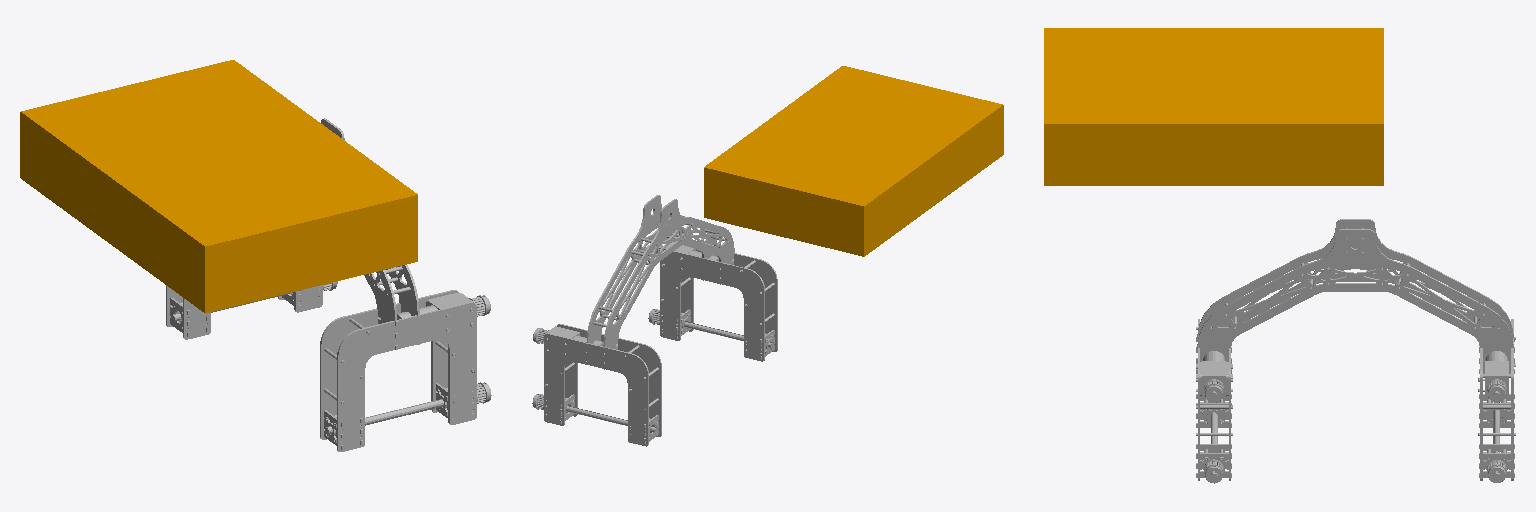
robot.urdf — bluetounge:
<robot
  name="bluetounge">
  <link name="base_link">
        <visual>
          <geometry>
            <box size=" .4   .6 .12"/>
          </geometry>
        </visual>
    </link>
  <joint name="base_to_left_bogey" type="fixed">
      <parent link="base_link"/>
      <child link="left_bogey_top"/>
	<!-- .2 from center on x -->
      <origin xyz=".3 0 0.027" rpy="0 3.14159265 4.71238898"/>
      <axis xyz="0 0 1" />
  </joint>
  <link
    name="left_bogey_top">
    <inertial>
      <origin
        xyz="-0.094382 0.035191 0.10396"
        rpy="0 0 0" />
      <mass
        value="1.3772" />
      <inertia
        ixx="0.013062"
        ixy="0.00030538"
        ixz="-0.018196"
        iyy="0.10669"
        iyz="-0.00024198"
        izz="0.096319" />
    </inertial>
    <visual>
      <origin
        xyz="0 0 0"
        rpy="0 0 0" />
      <geometry>
        <mesh
          filename="package://owr_bluetounge_tf/meshes/left_bogey_top.STL" />
      </geometry>
      <material
        name="">
        <color
          rgba="0.86667 0.9098 1 1" />
      </material>
    </visual>
    <collision>
      <origin
        xyz="0 0 0"
        rpy="0 0 0" />
      <geometry>
        <mesh
          filename="package://owr_bluetounge_tf/meshes/left_bogey_top.STL" />
      </geometry>
    </collision>
  </link>
  <link
    name="left_front_wheel_hub">
    <inertial>
      <origin
        xyz="-0.11579 0.17312 -2.3336E-05"
        rpy="0 0 0" />
      <mass
        value="2.6838" />
      <inertia
        ixx="0.015763"
        ixy="-0.0036021"
        ixz="2.4611E-06"
        iyy="0.01238"
        iyz="4.0061E-07"
        izz="0.026734" />
    </inertial>
    <visual>
      <origin
        xyz="0 0 0"
        rpy="0 0 0" />
      <geometry>
        <mesh
          filename="package://owr_bluetounge_tf/meshes/left_front_wheel_hub.STL" />
      </geometry>
      <material
        name="">
        <color
          rgba="0.86667 0.9098 1 1" />
      </material>
    </visual>
    <collision>
      <origin
        xyz="0 0 0"
        rpy="0 0 0" />
      <geometry>
        <mesh
          filename="package://owr_bluetounge_tf/meshes/left_front_wheel_hub.STL" />
      </geometry>
    </collision>
  </link>
  <joint
    name="left_front_bogey_hub"
    type="fixed">
    <origin
      xyz="-0.50057 -0.090687 0.51198"
      rpy="0 -1.5706 0" />
    <parent
      link="left_bogey_top" />
    <child
      link="left_front_wheel_hub" />
    <axis
      xyz="0 0 0" />
  </joint>
  <link
    name="left_back_bogey">
    <inertial>
      <origin
        xyz="-0.078156 0.24943 -0.11724"
        rpy="0 0 0" />
      <mass
        value="6.2866" />
      <inertia
        ixx="0.4103"
        ixy="0.0002581"
        ixz="0.0022294"
        iyy="0.079125"
        iyz="9.8891E-05"
        izz="0.39691" />
    </inertial>
    <visual>
      <origin
        xyz="0 0 0"
        rpy="0 0 0" />
      <geometry>
        <mesh
          filename="package://owr_bluetounge_tf/meshes/left_back_bogey.STL" />
      </geometry>
      <material
        name="">
        <color
          rgba="0.75294 0.75294 0.75294 1" />
      </material>
    </visual>
    <collision>
      <origin
        xyz="0 0 0"
        rpy="0 0 0" />
      <geometry>
        <mesh
          filename="package://owr_bluetounge_tf/meshes/left_back_bogey.STL" />
      </geometry>
    </collision>
  </link>
  <joint
    name="left_bogey_axel"
    type="fixed">
    <origin
      xyz="-0.00031073 -0.0027889 0.49186"
      rpy="5.2352E-15 0 -1.5708" />
    <parent
      link="left_bogey_top" />
    <child
      link="left_back_bogey" />
    <axis
      xyz="0 0 0" />
  </joint>
<link
    name="WheelLF">
    <inertial>
      <origin
        xyz="-0.0640000000000001 -2.98155597433514E-18 0"
        rpy="0 0 0" />
      <mass
        value="1.86318344508723" />
      <inertia
        ixx="0.0179963942930543"
        ixy="-2.15672374578627E-18"
        ixz="1.63515966176784E-34"
        iyy="0.0131272204160217"
        iyz="-1.94143329058776E-34"
        izz="0.0131272204160217" />
    </inertial>
    <visual>
      <origin
        xyz="0 0 0"
        rpy="0 0 0" />
      <geometry>
        <mesh
          filename="package://owr_bluetounge_tf/meshes/Wheel.STL" />
      </geometry>
      <material
        name="">
        <color
          rgba="0.294117647058824 0.294117647058824 0.294117647058824 1" />
      </material>
    </visual>
    <collision>
      <origin
        xyz="0 0 0"
        rpy="0 0 0" />
      <geometry>
        <mesh
          filename="package://owr_bluetounge_tf/meshes/Wheel.STL" />
      </geometry>
    </collision>
  </link>
  <joint
    name="AxleLF"
    type="fixed">
    <!-- 0.0254710786476053 -0.0201166854458847  0.000315728425903225 -->
    <origin
      xyz="-0.02 .16 0.000315728425903225"
      rpy="1.5707963267949 0 1.57079633" />
    <parent
      link="left_front_wheel_hub" />
    <child
      link="WheelLF" />
    <axis
      xyz="0 0 0" />
  </joint>
  <link
    name="WheelLM">
    <inertial>
      <origin
        xyz="-0.0640000000000001 -2.98155597433514E-18 0"
        rpy="0 0 0" />
      <mass
        value="1.86318344508723" />
      <inertia
        ixx="0.0179963942930543"
        ixy="-2.15672374578627E-18"
        ixz="1.63515966176784E-34"
        iyy="0.0131272204160217"
        iyz="-1.94143329058776E-34"
        izz="0.0131272204160217" />
    </inertial>
    <visual>
      <origin
        xyz="0 0 0"
        rpy="0 0 0" />
      <geometry>
        <mesh
          filename="package://owr_bluetounge_tf/meshes/Wheel.STL" />
      </geometry>
      <material
        name="">
        <color
          rgba="0.294117647058824 0.294117647058824 0.294117647058824 1" />
      </material>
    </visual>
    <collision>
      <origin
        xyz="0 0 0"
        rpy="0 0 0" />
      <geometry>
        <mesh
          filename="package://owr_bluetounge_tf/meshes/Wheel.STL" />
      </geometry>
    </collision>
  </link>
  <joint
    name="AxleLM"
    type="fixed">
    <!-- 0.0254710786476053 -0.0201166854458847  0.000315728425903225 -->
    <origin
      xyz="0 0.02 0.02"
      rpy="1.5707963267949 0 0" />
    <parent
      link="left_back_bogey" />
    <child
      link="WheelLM" />
    <axis
      xyz="1 0 0" />
  </joint>
  <link
    name="WheelLB">
    <inertial>
      <origin
        xyz="-0.0640000000000001 -2.98155597433514E-18 0"
        rpy="0 0 0" />
      <mass
        value="1.86318344508723" />
      <inertia
        ixx="0.0179963942930543"
        ixy="-2.15672374578627E-18"
        ixz="1.63515966176784E-34"
        iyy="0.0131272204160217"
        iyz="-1.94143329058776E-34"
        izz="0.0131272204160217" />
    </inertial>
    <visual>
      <origin
        xyz="0 0 0"
        rpy="0 0 0" />
      <geometry>
        <mesh
          filename="package://owr_bluetounge_tf/meshes/Wheel.STL" />
      </geometry>
      <material
        name="">
        <color
          rgba="0.294117647058824 0.294117647058824 0.294117647058824 1" />
      </material>
    </visual>
    <collision>
      <origin
        xyz="0 0 0"
        rpy="0 0 0" />
      <geometry>
        <mesh
          filename="package://owr_bluetounge_tf/meshes/Wheel.STL" />
      </geometry>
    </collision>
  </link>
  <joint
    name="AxleLB"
    type="fixed">
    <!-- 0.0254710786476053 -0.0201166854458847  0.000315728425903225 -->
    <origin
      xyz="0 0.5 0.02"
      rpy="1.5707963267949 0 0" />
    <parent
      link="left_back_bogey" />
    <child
      link="WheelLB" />
    <axis
      xyz="1 0 0" />
  </joint>
  <joint name="base_to_right_bogey" type="fixed">
      <parent link="base_link"/>
      <child link="right_bogey_top"/>
	<!-- .2 from center on x -->
      <origin xyz="-.4 0 0.027" rpy="0 3.14159265 4.71238898"/>
      <axis xyz="0 0 1" />
  </joint>
  <link
    name="right_bogey_top">
    <inertial>
      <origin
        xyz="-0.094382 0.035191 0.10396"
        rpy="0 0 0" />
      <mass
        value="1.3772" />
      <inertia
        ixx="0.013062"
        ixy="0.00030538"
        ixz="-0.018196"
        iyy="0.10669"
        iyz="-0.00024198"
        izz="0.096319" />
    </inertial>
    <visual>
      <origin
        xyz="0 0 0"
        rpy="0 0 0" />
      <geometry>
        <mesh
          filename="package://owr_bluetounge_tf/meshes/right_bogey_top.STL" />
      </geometry>
      <material
        name="">
        <color
          rgba="0.86667 0.9098 1 1" />
      </material>
    </visual>
    <collision>
      <origin
        xyz="0 0 0"
        rpy="0 0 0" />
      <geometry>
        <mesh
          filename="package://owr_bluetounge_tf/meshes/right_bogey_top.STL" />
      </geometry>
    </collision>
  </link>
  <link
    name="right_front_wheel_hub">
    <inertial>
      <origin
        xyz="-0.11579 0.17312 -2.3336E-05"
        rpy="0 0 0" />
      <mass
        value="2.6838" />
      <inertia
        ixx="0.015763"
        ixy="-0.0036021"
        ixz="2.4611E-06"
        iyy="0.01238"
        iyz="4.0061E-07"
        izz="0.026734" />
    </inertial>
    <visual>
      <origin
        xyz="0 0 0"
        rpy="0 0 0" />
      <geometry>
        <mesh
          filename="package://owr_bluetounge_tf/meshes/right_front_wheel_hub.STL" />
      </geometry>
      <material
        name="">
        <color
          rgba="0.86667 0.9098 1 1" />
      </material>
    </visual>
    <collision>
      <origin
        xyz="0 0 0"
        rpy="0 0 0" />
      <geometry>
        <mesh
          filename="package://owr_bluetounge_tf/meshes/right_front_wheel_hub.STL" />
      </geometry>
    </collision>
  </link>
  <joint
    name="right_front_bogey_hub"
    type="fixed">
    <origin
      xyz="-0.50057 -0.090687 0.51198"
      rpy="0 -1.5706 0" />
    <parent
      link="right_bogey_top" />
    <child
      link="right_front_wheel_hub" />
    <axis
      xyz="0 0 0" />
  </joint>
  <link
    name="right_back_bogey">
    <inertial>
      <origin
        xyz="-0.078156 0.24943 -0.11724"
        rpy="0 0 0" />
      <mass
        value="6.2866" />
      <inertia
        ixx="0.4103"
        ixy="0.0002581"
        ixz="0.0022294"
        iyy="0.079125"
        iyz="9.8891E-05"
        izz="0.39691" />
    </inertial>
    <visual>
      <origin
        xyz="0 0 0"
        rpy="0 0 0" />
      <geometry>
        <mesh
          filename="package://owr_bluetounge_tf/meshes/right_back_bogey.STL" />
      </geometry>
      <material
        name="">
        <color
          rgba="0.75294 0.75294 0.75294 1" />
      </material>
    </visual>
    <collision>
      <origin
        xyz="0 0 0"
        rpy="0 0 0" />
      <geometry>
        <mesh
          filename="package://owr_bluetounge_tf/meshes/right_back_bogey.STL" />
      </geometry>
    </collision>
  </link>
  <joint
    name="right_bogey_axel"
    type="fixed">
    <origin
      xyz="-0.00031073 -0.0027889 0.49186"
      rpy="5.2352E-15 0 -1.5708" />
    <parent
      link="right_bogey_top" />
    <child
      link="right_back_bogey" />
    <axis
      xyz="0 0 0" />
  </joint>
<link
    name="WheelRF">
    <inertial>
      <origin
        xyz="-0.0640000000000001 -2.98155597433514E-18 0"
        rpy="0 0 0" />
      <mass
        value="1.86318344508723" />
      <inertia
        ixx="0.0179963942930543"
        ixy="-2.15672374578627E-18"
        ixz="1.63515966176784E-34"
        iyy="0.0131272204160217"
        iyz="-1.94143329058776E-34"
        izz="0.0131272204160217" />
    </inertial>
    <visual>
      <origin
        xyz="0 0 0"
        rpy="0 0 0" />
      <geometry>
        <mesh
          filename="package://owr_bluetounge_tf/meshes/Wheel.STL" />
      </geometry>
      <material
        name="">
        <color
          rgba="0.294117647058824 0.294117647058824 0.294117647058824 1" />
      </material>
    </visual>
    <collision>
      <origin
        xyz="0 0 0"
        rpy="0 0 0" />
      <geometry>
        <mesh
          filename="package://owr_bluetounge_tf/meshes/Wheel.STL" />
      </geometry>
    </collision>
  </link>
  <joint
    name="AxleRF"
    type="fixed">
    <!-- 0.0254710786476053 -0.0201166854458847  0.000315728425903225 -->
    <origin
      xyz="-0.02 .16 0.000315728425903225"
      rpy="1.5707963267949 0 1.57079633" />
    <parent
      link="right_front_wheel_hub" />
    <child
      link="WheelRF" />
    <axis
      xyz="0 0 0" />
  </joint>
  <link

    name="WheelRM">
    <inertial>
      <origin

        xyz="-0.0640000000000001 -2.98155597433514E-18 0"

        rpy="0 0 0" />
      <mass

        value="1.86318344508723" />
      <inertia

        ixx="0.0179963942930543"

        ixy="-2.15672374578627E-18"

        ixz="1.63515966176784E-34"

        iyy="0.0131272204160217"

        iyz="-1.94143329058776E-34"

        izz="0.0131272204160217" />
    </inertial>
    <visual>
      <origin

        xyz="0 0 0"

        rpy="0 0 0" />
      <geometry>
        <mesh

          filename="package://owr_bluetounge_tf/meshes/Wheel.STL" />
      </geometry>
      <material
        name="">
        <color
          rgba="0.294117647058824 0.294117647058824 0.294117647058824 1" />
      </material>
    </visual>
    <collision>
      <origin
        xyz="0 0 0"
        rpy="0 0 0" />
      <geometry>
        <mesh
          filename="package://owr_bluetounge_tf/meshes/Wheel.STL" />
      </geometry>
    </collision>
  </link>
  <joint
    name="AxleRM"
    type="fixed">
    <!-- 0.0254710786476053 -0.0201166854458847  0.000315728425903225 -->
    <origin
      xyz="0 0.02 0.02"
      rpy="1.5707963267949 0 0" />
    <parent
      link="right_back_bogey" />
    <child
      link="WheelRM" />
    <axis
      xyz="1 0 0" />
  </joint>
  <link
    name="WheelRB">
    <inertial>
      <origin

        xyz="-0.0640000000000001 -2.98155597433514E-18 0"
        rpy="0 0 0" />
      <mass
        value="1.86318344508723" />
      <inertia
        ixx="0.0179963942930543"
        ixy="-2.15672374578627E-18"
        ixz="1.63515966176784E-34"
        iyy="0.0131272204160217"
        iyz="-1.94143329058776E-34"
        izz="0.0131272204160217" />
    </inertial>
    <visual>
      <origin

        xyz="0 0 0"
        rpy="0 0 0" />
      <geometry>
        <mesh
          filename="package://owr_bluetounge_tf/meshes/Wheel.STL" />
      </geometry>
      <material
        name="">
        <color
          rgba="0.294117647058824 0.294117647058824 0.294117647058824 1" />
      </material>
    </visual>
    <collision>
      <origin
        xyz="0 0 0"
        rpy="0 0 0" />
      <geometry>
        <mesh
          filename="package://owr_bluetounge_tf/meshes/Wheel.STL" />
      </geometry>
    </collision>
  </link>
  <joint
    name="AxleRB"
    type="fixed">
    <!-- 0.0254710786476053 -0.0201166854458847  0.000315728425903225 -->
    <origin
      xyz="0 0.5 0.02"
      rpy="1.5707963267949 0 0" />
    <parent
      link="right_back_bogey" />
    <child
      link="WheelRB" />
    <axis
      xyz="1 0 0" />
  </joint>
</robot>

--- What the picture shows (computed from the rendered views, not written in the file) ---
The picture shows the robot from 3 angles, left to right: view 1: azimuth 30°, elevation 25°; view 2: azimuth 150°, elevation 25°; view 3: azimuth 270°, elevation 25°; orthographic projection.
Model bluetounge with 13 links and 12 joints (12 fixed), rooted at base_link, posed every joint at zero.
Links seen in each view (by area): view 1: base_link, left_back_bogey; view 2: base_link, left_back_bogey; view 3: base_link, left_back_bogey.
Boxes of the visible links, x1=… form: base_link: x1=20, y1=60, x2=417, y2=313; left_back_bogey: x1=166, y1=118, x2=491, y2=451; base_link: x1=704, y1=66, x2=1003, y2=256; left_back_bogey: x1=532, y1=195, x2=777, y2=446; base_link: x1=1044, y1=28, x2=1383, y2=185; left_back_bogey: x1=1196, y1=219, x2=1515, y2=483.
Size in the robot's own frame: 0.7065 by 0.8329 by 0.574 metres.
Meshes: 7 distinct files referenced, 1 mesh visuals loaded (1 binary STL); not drawn: 2 (reference not matched to a file when rendering), 9 (file found but could not be loaded).